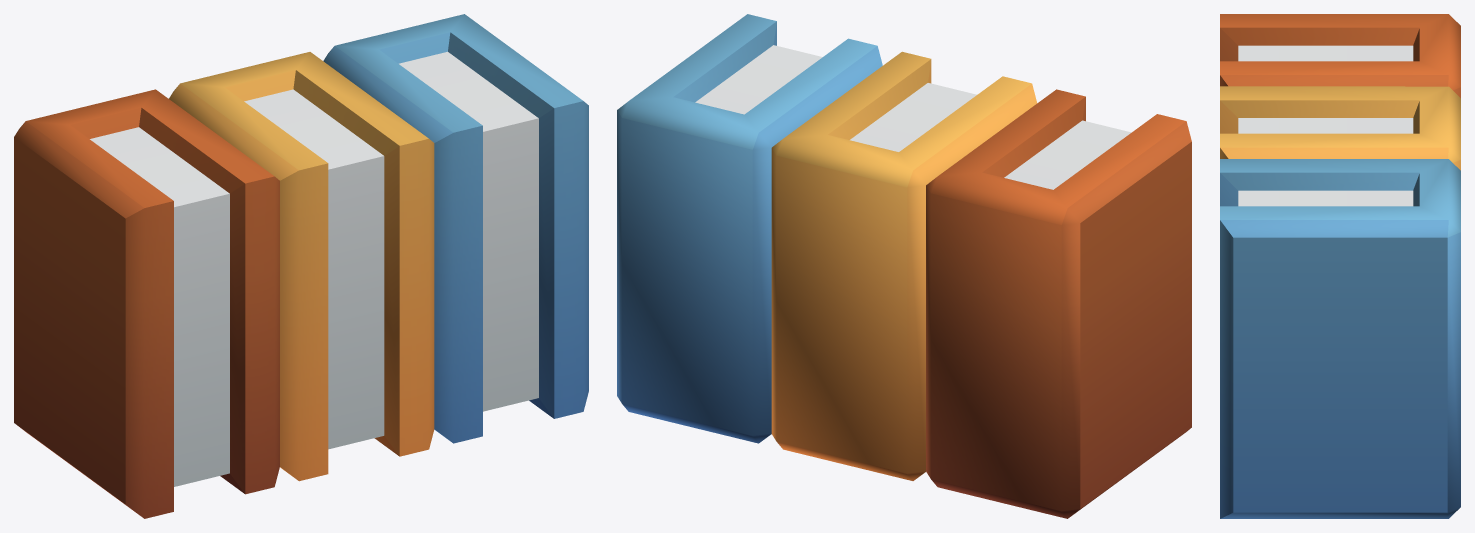
The picture shows the model from 3 angles, left to right: view 1: azimuth 30°, elevation 25°; view 2: azimuth 150°, elevation 25°; view 3: azimuth 270°, elevation 25°; orthographic projection. The views are drawn at different scales.
Parts seen in each view (by area): view 1: book_set; view 2: book_set; view 3: book_set.
Part boxes in pixels (bbox=[...]): book_set: bbox=[14, 14, 588, 518]; book_set: bbox=[617, 14, 1191, 518]; book_set: bbox=[1220, 14, 1460, 518].
Bounding box in the file's own units: 0.78 × 0.5 × 0.365.
1 material, 1 textured.
